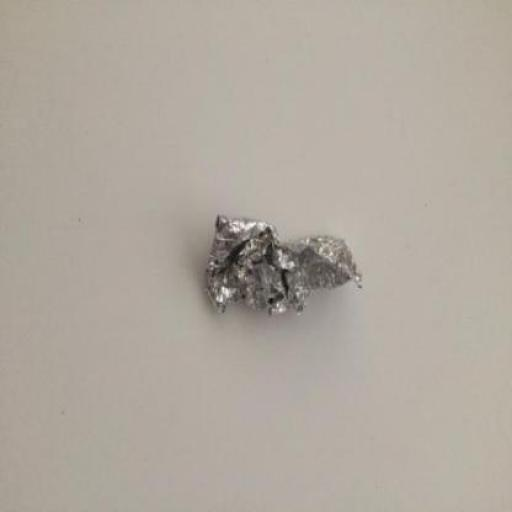metal: (204, 216, 365, 317)
